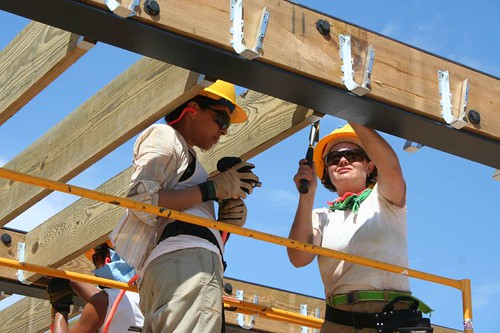person hardhat: (123, 76, 267, 332), (300, 104, 437, 333)
